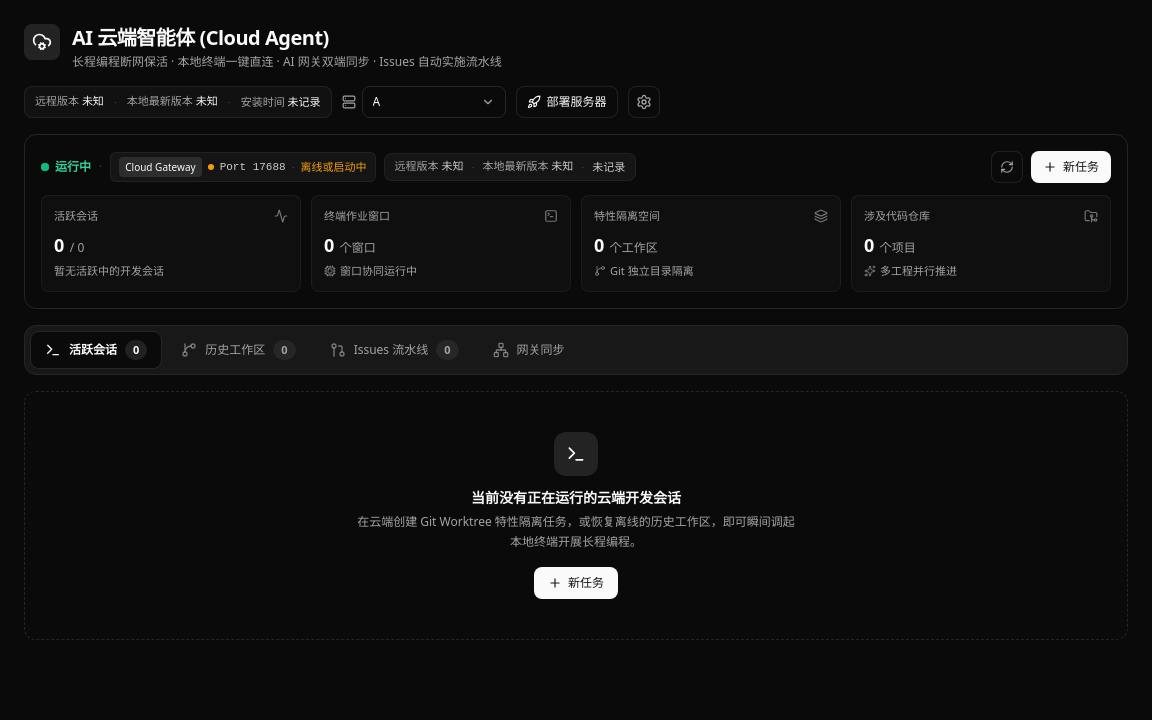
Test: CloudAgent deployment console › deployment failure keeps host A selected and dialog open with error
What coordinates should you click on to do the following:
click the button with test id "cloud-agent-deploy-open"
I would click on:
 (566, 102)
Its box is [516,86,618,118].
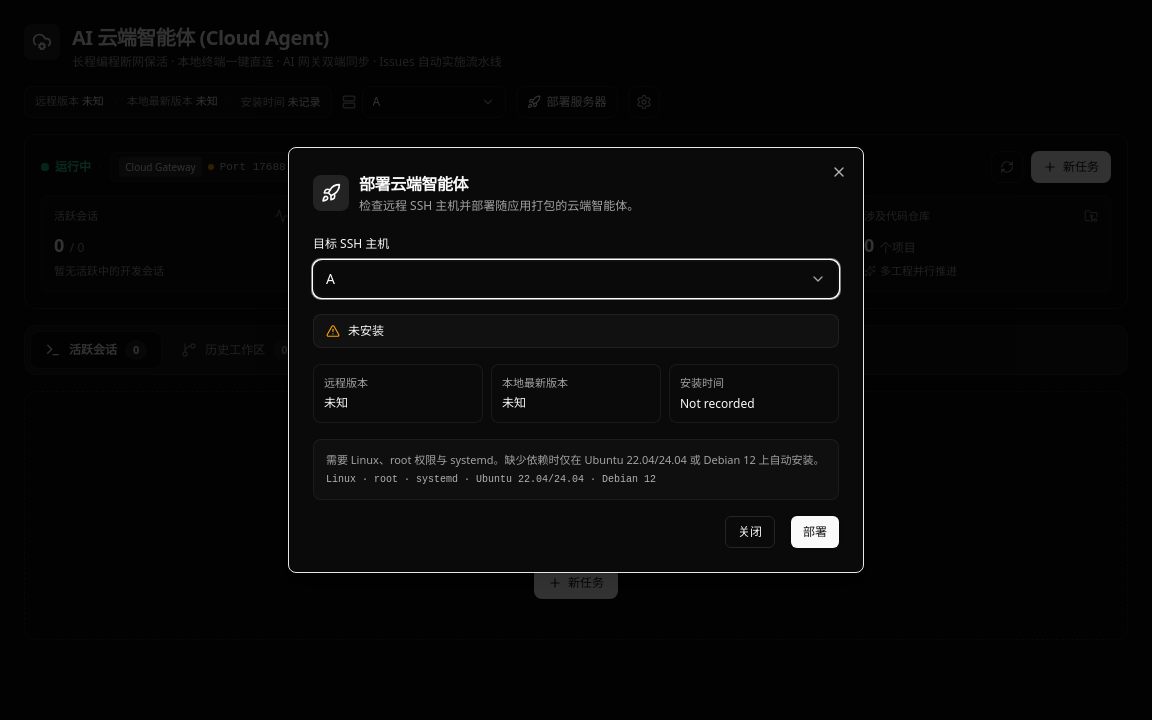
expect the dialog with test id "cloud-agent-deployment-dialog" is shown: met, box [288,147,864,573]
What coordinates should you click on to do the following:
click the button with test id "cloud-agent-deploy-submit"
I would click on:
 (815, 532)
Its box is [791,516,839,548].
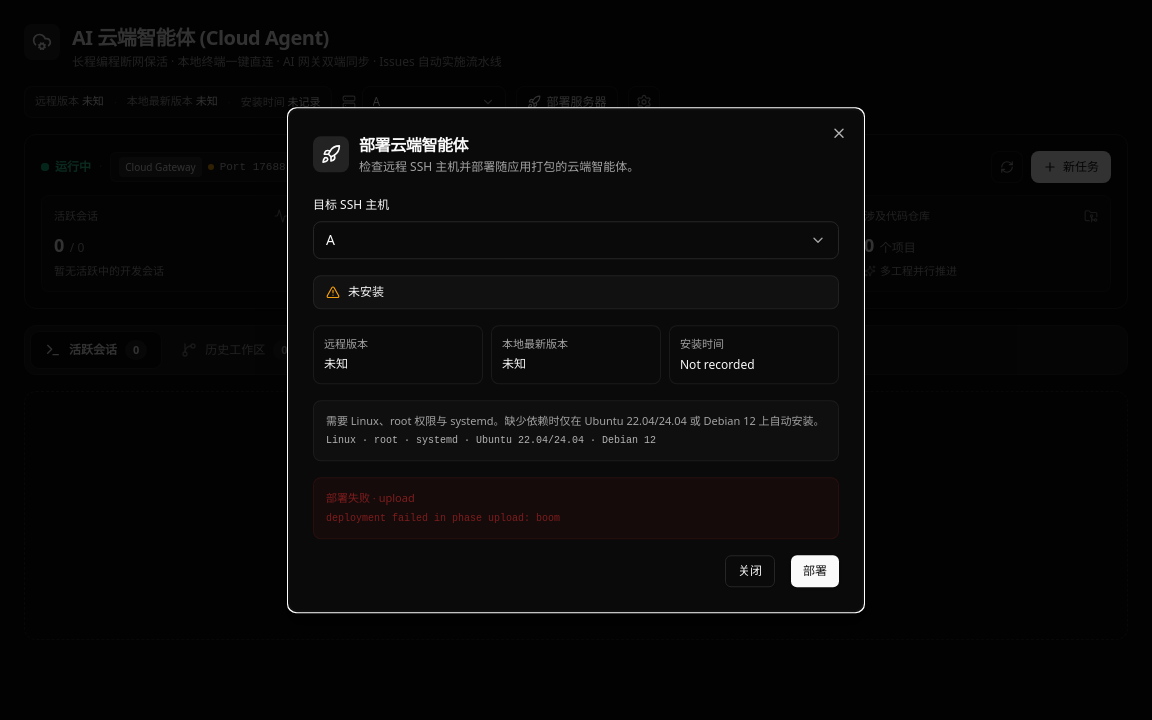
expect the dialog with test id "cloud-agent-deployment-dialog" is shown: met, box [288,108,864,612]
expect the element with test id "cloud-agent-deploy-error" is shown: met, box [313,477,839,539]
